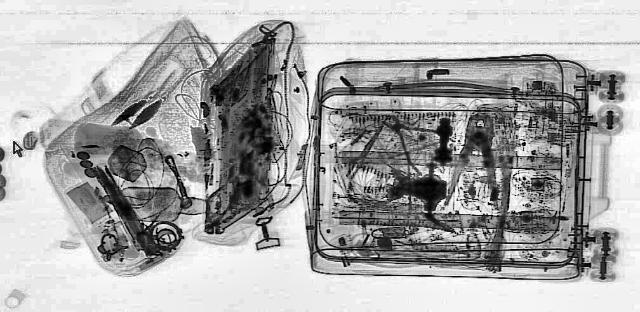Pliers: (359, 110, 476, 176), (442, 114, 504, 206)
